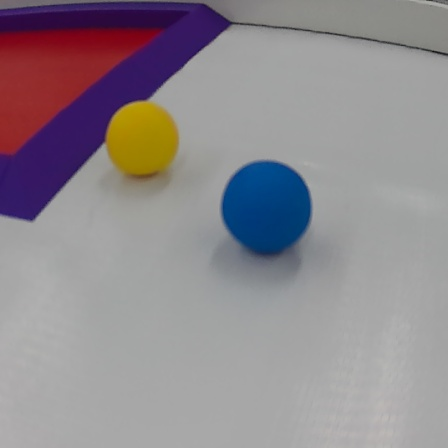blue: (218, 157, 317, 259)
red_aim: (0, 0, 230, 226)
yellow: (102, 102, 182, 178)
